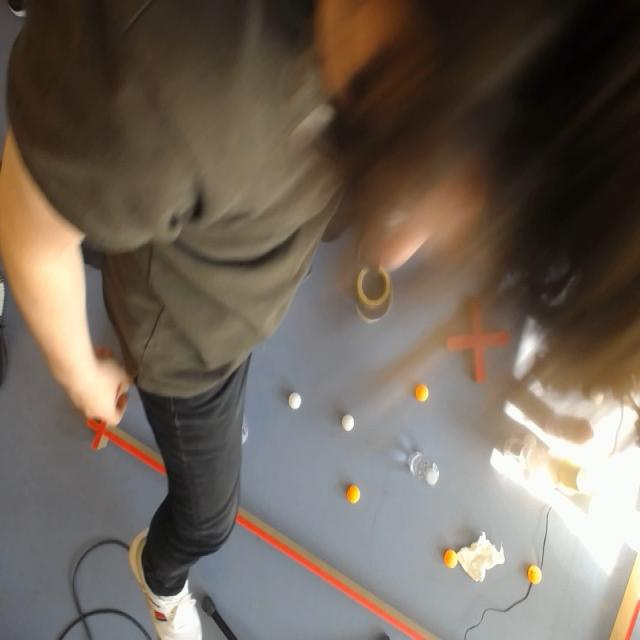orange: (344, 483, 362, 506), (412, 383, 430, 404), (442, 547, 457, 569), (527, 564, 541, 584)
white: (286, 390, 304, 414), (339, 411, 356, 434)
